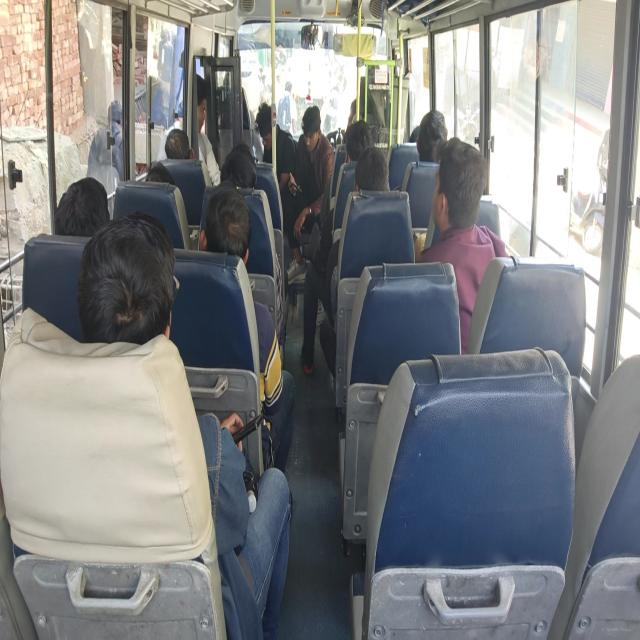person: (90, 230, 175, 349), (50, 179, 124, 264), (202, 190, 250, 264), (430, 153, 478, 223), (357, 144, 396, 202), (420, 118, 456, 174), (187, 80, 218, 141), (253, 105, 287, 155), (224, 158, 262, 197), (342, 123, 379, 163), (156, 131, 197, 163), (144, 165, 182, 199), (225, 136, 262, 168), (300, 114, 330, 144), (406, 127, 426, 148)
